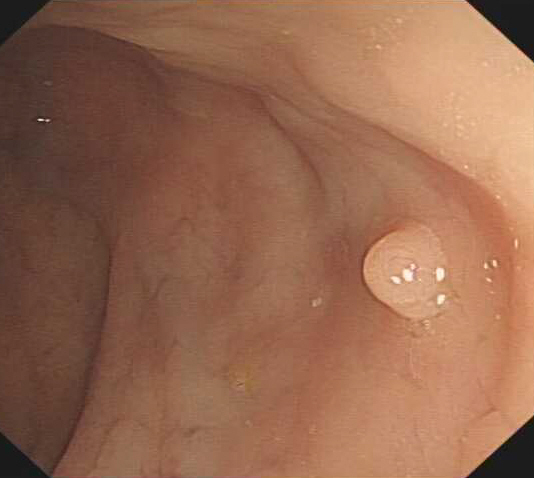others: (356, 222, 449, 324)
